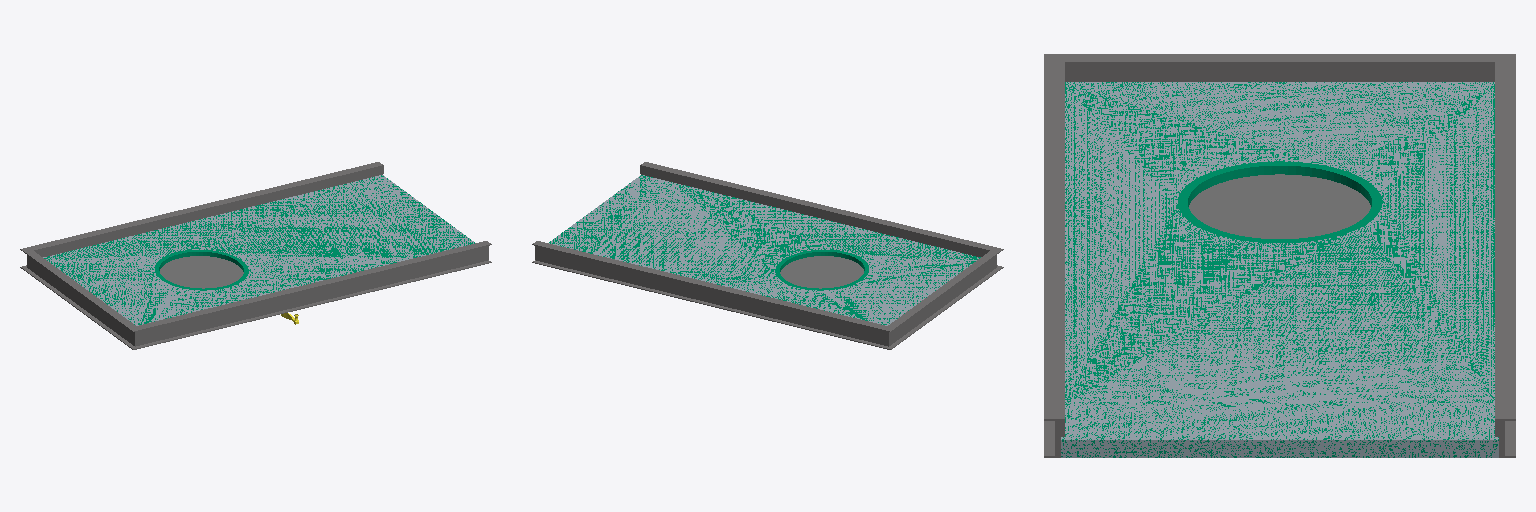
The robot description file, URDF, robot "right-pull-door":
<?xml version="1.0" ?>
<robot name="right-pull-door">
	<link name="base"/>
	<link name="link_0">
		<visual name="out-frame">
			<origin xyz="0 0 0"/>
			<geometry>
				<mesh filename="texture_dae/frame.dae" scale="0.8260464734997642 0.8260464734997642 0.8260464734997642"/>
			</geometry>
		</visual>
		<collision>
			<origin xyz="0 0 0"/>
			<geometry>
				<mesh filename="texture_dae/frame.dae" scale="0.8260464734997642 0.8260464734997642 0.8260464734997642"/>
			</geometry>
		</collision>
	</link>
	<joint name="joint_0" type="fixed">
		<origin rpy="1.570796326794897 0 -1.570796326794897" xyz="0 0 0"/>
		<child link="link_0"/>
		<parent link="base"/>
	</joint>
	<link name="link_1">
		<visual name="surf-board">
			<origin xyz="0.4607846993232933 -0.8778489936799045 0"/>
			<geometry>
				<mesh filename="texture_dae/board.dae" scale="0.8260464734997642 0.8260464734997642 0.8260464734997642"/>
			</geometry>
		</visual>
		<collision>
			<origin xyz="0.4607846993232933 -0.8778489936799045 0"/>
			<geometry>
				<mesh filename="texture_dae/board.dae" scale="0.8260464734997642 0.8260464734997642 0.8260464734997642"/>
			</geometry>
		</collision>
	</link>
	<joint name="joint_1" type="revolute">
		<origin xyz="-0.4607846993232933 0.8778489936799045 0"/>
		<axis xyz="0 -1 0"/>
		<child link="link_1"/>
		<parent link="link_0"/>
		<limit lower="0" upper="1.5079644737231006"/>
	</joint>
	<link name="link_2">
		<visual name="handle">
			<origin xyz="0 0 0"/>
			<geometry>
				<mesh filename="texture_dae/9960006.dae" scale="1.853696328601378 1.853696328601378 1.853696328601378"/>
			</geometry>
		</visual>
		<collision>
			<origin xyz="0 0 0"/>
			<geometry>
				<mesh filename="texture_dae/9960006.dae" scale="1.853696328601378 1.853696328601378 1.853696328601378"/>
			</geometry>
		</collision>
	</link>
	<joint name="joint_2" type="revolute">
		<origin xyz="0.8422985295698374 -0.9846315200660551 0.017012987083037383"/>
		<child link="link_2"/>
		<parent link="link_1"/>
		<axis xyz="0 0 1"/>
		<limit lower="0" upper="1.5079644737231006"/>
	</joint>
</robot>

--- What the picture shows (computed from the rendered views, not written in the file) ---
Views: 3 orthographic renders of the robot side by side, from view 1: azimuth 30°, elevation 25°; view 2: azimuth 150°, elevation 25°; view 3: azimuth 270°, elevation 25°.
Robot: right-pull-door — 4 links, 3 joints (2 revolute, 1 fixed); root link base; default pose: all joints at 0.
Visible links, largest first — view 1: link_1, link_0; view 2: link_1, link_0; view 3: link_1, link_0.
Boxes of the visible links, <box> form: link_1: <box>43,175,474,325</box>; link_0: <box>20,162,491,349</box>; link_1: <box>549,175,980,325</box>; link_0: <box>532,162,1003,349</box>; link_1: <box>1061,82,1498,457</box>; link_0: <box>1044,54,1515,457</box>.
Bounding box of the posed robot: 1.82 × 0.9913 × 0.2227 m (x, y, z).
3 mesh visuals loaded from 3 distinct referenced files (3 Collada DAE).
